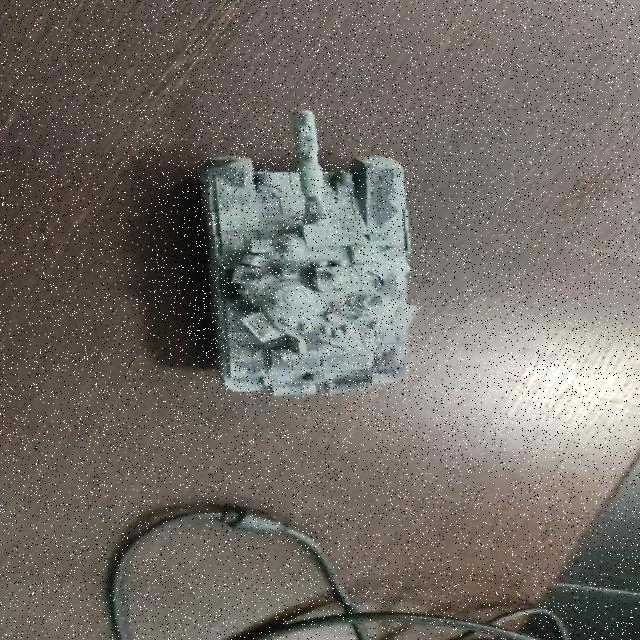MIL_MBT: (193, 108, 419, 397)
